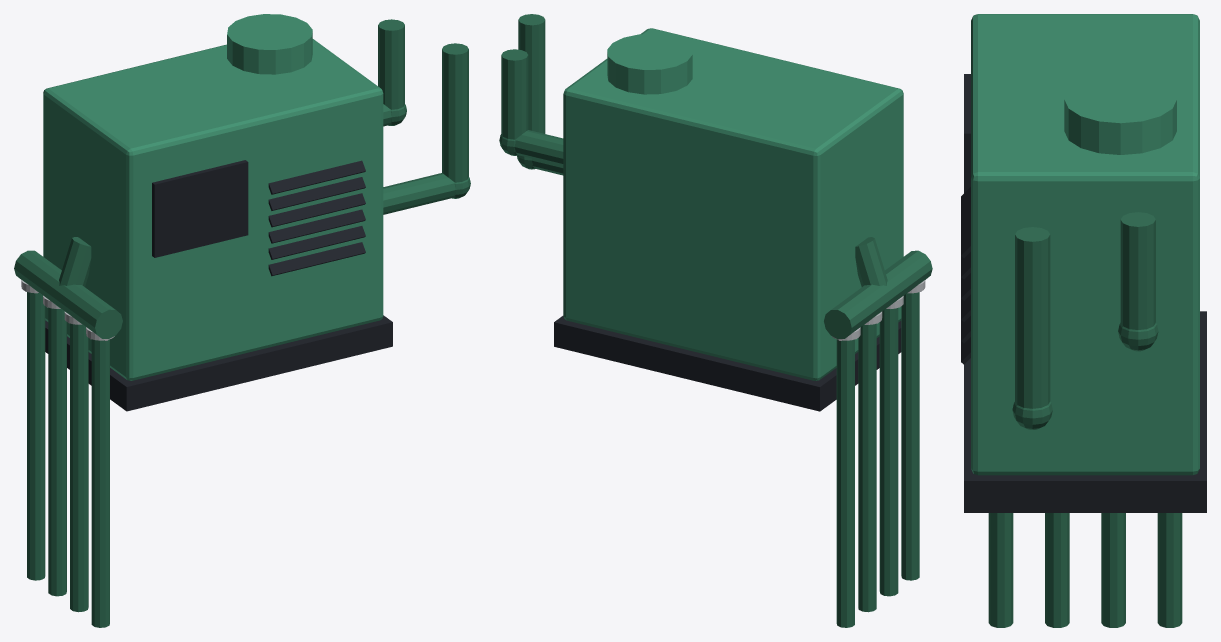
Rendered from gshp.glb.
3 views of the same model, side by side, from view 1: azimuth 30°, elevation 25°; view 2: azimuth 150°, elevation 25°; view 3: azimuth 270°, elevation 25° (orthographic). The views are drawn at different scales.
Parts seen in each view (by area): view 1: gshp_gshp_body, gshp_gshp_pipe, gshp_chiller_dark; view 2: gshp_gshp_body, gshp_gshp_pipe, gshp_chiller_dark; view 3: gshp_gshp_body, gshp_gshp_pipe, gshp_chiller_dark.
Part boxes in pixels (bbox=[...]): gshp_gshp_body: bbox=[43, 14, 383, 380]; gshp_gshp_pipe: bbox=[14, 19, 470, 627]; gshp_chiller_dark: bbox=[45, 160, 392, 411]; gshp_gshp_body: bbox=[563, 28, 903, 380]; gshp_gshp_pipe: bbox=[499, 14, 932, 627]; gshp_chiller_dark: bbox=[554, 316, 901, 411]; gshp_gshp_body: bbox=[971, 14, 1199, 475]; gshp_gshp_pipe: bbox=[988, 212, 1182, 627]; gshp_chiller_dark: bbox=[961, 74, 1206, 512].
Bounding box in the file's own units: 1.69 × 2.07 × 0.6984.
